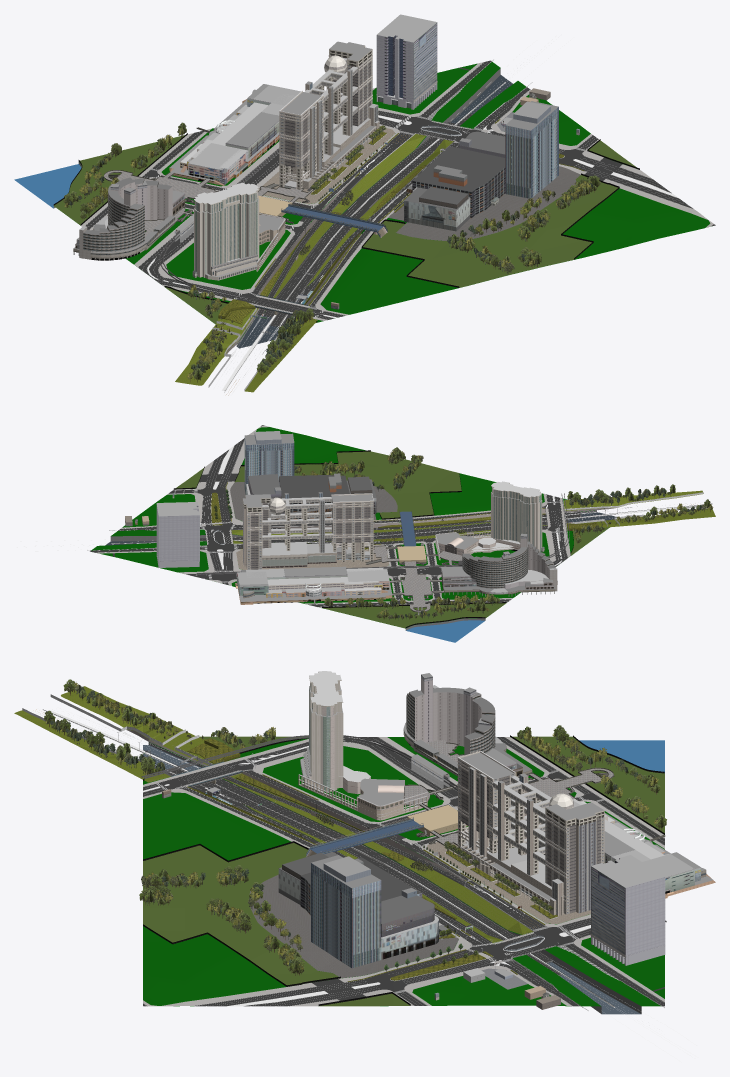
The picture shows the model from 3 angles, top to bottom: view 1: azimuth 30°, elevation 25°; view 2: azimuth 150°, elevation 25°; view 3: azimuth 270°, elevation 25°; orthographic projection. The views are drawn at different scales.
Parts seen in each view (by area): view 1: 005339_07140_facilligreen, 005339_07140_ground, 005339_07140_road, 005339_07140_65000G_-10340901_build5Fto10F, 005339_07140_61000G_-9010001_buildtarget, 005339_07140_65000G_-9002201_build5Fto10F, 005339_07140_facilli, 005339_07140_walk, 005339_07140_66000G_-10282001_build10Fover, 005339_07140_66000G_-9002301_build10Fover, 005339_07140_roadcityhighway, 005339_07140_66000G_-9002401_build10Fover (+6 smaller); view 2: 005339_07140_facilligreen, 005339_07140_61000G_-9010001_buildtarget, 005339_07140_road, 005339_07140_ground, 005339_07140_65000G_-10340901_build5Fto10F, 005339_07140_65000G_-9002201_build5Fto10F, 005339_07140_66000G_-9002301_build10Fover, 005339_07140_walk, 005339_07140_66000G_-10282001_build10Fover, 005339_07140_66000G_-9002401_build10Fover, 005339_07140_facilli, 005339_07140_roadcityhighway (+8 smaller); view 3: 005339_07140_facilligreen, 005339_07140_ground, 005339_07140_road, 005339_07140_61000G_-9010001_buildtarget, 005339_07140_65000G_-10340901_build5Fto10F, 005339_07140_walk, 005339_07140_facilli, 005339_07140_66000G_-9002401_build10Fover, 005339_07140_roadcityhighway, 005339_07140_66000G_-9002301_build10Fover, 005339_07140_66000G_-10282001_build10Fover, 005339_07140_65000G_-9002201_build5Fto10F (+9 smaller).
Boxes of the visible parts, x1,y1,x2,y2 form: 005339_07140_facilligreen: (53,122,639,392); 005339_07140_ground: (55,62,710,348); 005339_07140_road: (85,59,715,319); 005339_07140_65000G_-10340901_build5Fto10F: (404,101,558,231); 005339_07140_61000G_-9010001_buildtarget: (279,41,379,191); 005339_07140_65000G_-9002201_build5Fto10F: (169,84,300,185); 005339_07140_facilli: (258,112,580,240); 005339_07140_walk: (81,62,713,320); 005339_07140_66000G_-10282001_build10Fover: (194,182,259,280); 005339_07140_66000G_-9002301_build10Fover: (73,177,184,260); 005339_07140_roadcityhighway: (257,113,472,326); 005339_07140_66000G_-9002401_build10Fover: (376,14,437,109); 005339_07140_facilligreen: (173,447,715,628); 005339_07140_61000G_-9010001_buildtarget: (242,492,373,569); 005339_07140_road: (87,425,567,612); 005339_07140_ground: (91,427,617,628); 005339_07140_65000G_-10340901_build5Fto10F: (244,431,376,519); 005339_07140_65000G_-9002201_build5Fto10F: (235,566,392,604); 005339_07140_66000G_-9002301_build10Fover: (441,533,557,596); 005339_07140_walk: (96,426,570,607); 005339_07140_66000G_-10282001_build10Fover: (491,481,542,551); 005339_07140_66000G_-9002401_build10Fover: (156,502,199,567); 005339_07140_facilli: (230,469,397,569); 005339_07140_roadcityhighway: (200,511,581,543); 005339_07140_facilligreen: (14,679,666,1006); 005339_07140_ground: (143,737,664,1014); 005339_07140_road: (143,737,664,1010); 005339_07140_61000G_-9010001_buildtarget: (454,751,604,915); 005339_07140_65000G_-10340901_build5Fto10F: (278,851,438,968); 005339_07140_walk: (143,737,664,1006); 005339_07140_facilli: (248,841,590,989); 005339_07140_66000G_-9002401_build10Fover: (590,855,665,965); 005339_07140_roadcityhighway: (167,768,561,976); 005339_07140_66000G_-9002301_build10Fover: (403,673,532,777); 005339_07140_66000G_-10282001_build10Fover: (300,671,343,791); 005339_07140_65000G_-9002201_build5Fto10F: (541,797,715,898).
Size of the model in its own units: 948 by 129 by 757.
Materials: 40 (40 with a texture image).
